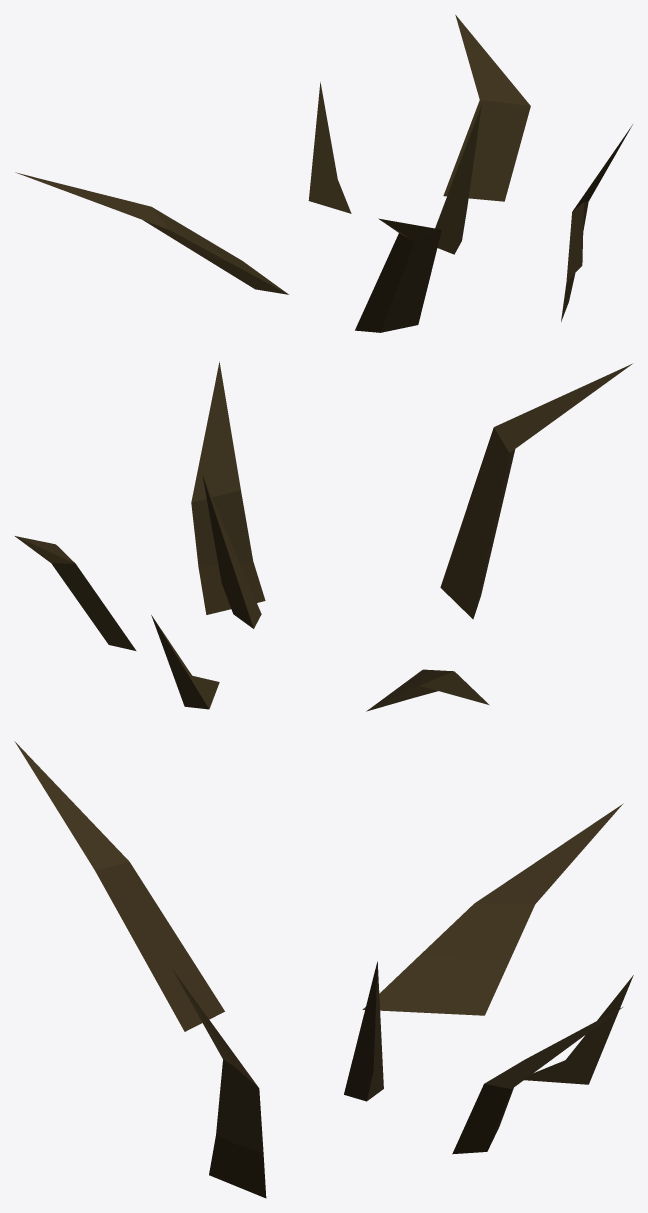
The model's file is burnt_grass.fbx.
3 renders of one model, top to bottom at view 1: azimuth 30°, elevation 25°; view 2: azimuth 150°, elevation 25°; view 3: azimuth 270°, elevation 25°, orthographic. The views are drawn at different scales.
Parts seen in each view (by area): view 1: grass.001; view 2: grass.001; view 3: grass.001.
Boxes of the visible parts, box(x1,y1,x2,y2) form: grass.001: box(15, 15, 632, 332); grass.001: box(15, 361, 632, 711); grass.001: box(14, 741, 633, 1198).
Size of the model in its own units: 137 by 144 by 68.88.
